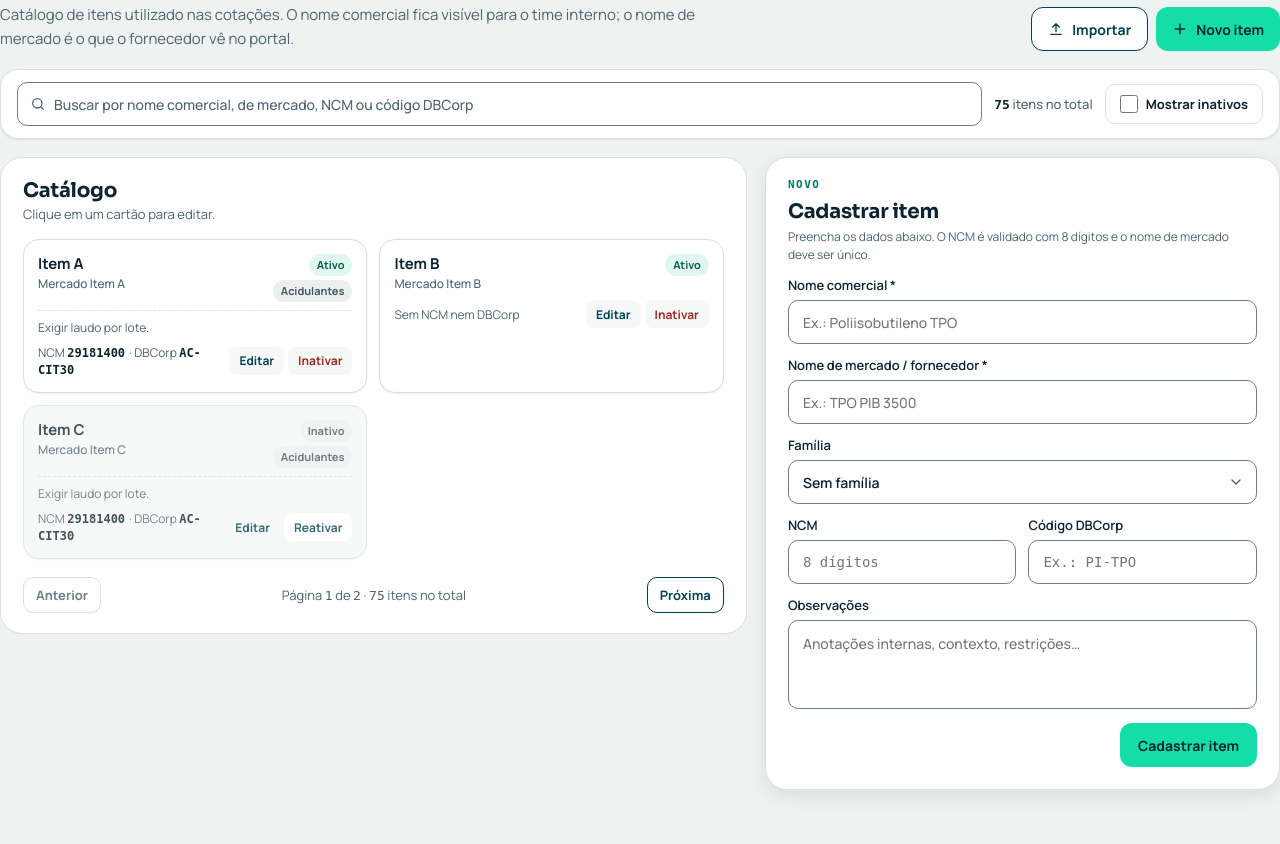
Test: Itens (visual, F10) › formulario: eyebrow "Novo"/"Editando" antes do h2, dica, campos de hoje, NCM e Codigo DBCorp em .itens-form__row; cartao em edicao marcado
Expected: the text "Item A" is shown, x1=38 y1=252 x2=84 y2=274
Expected: the text with class "eyebrow" reads "Novo", x1=788 y1=178 x2=820 y2=191
What coordinates should you click on to do the following:
click the button with aria-label "Editar item Item A"
I would click on:
 (195, 316)
Its box is x1=23 y1=238 x2=367 y2=393.
(page scrolled)
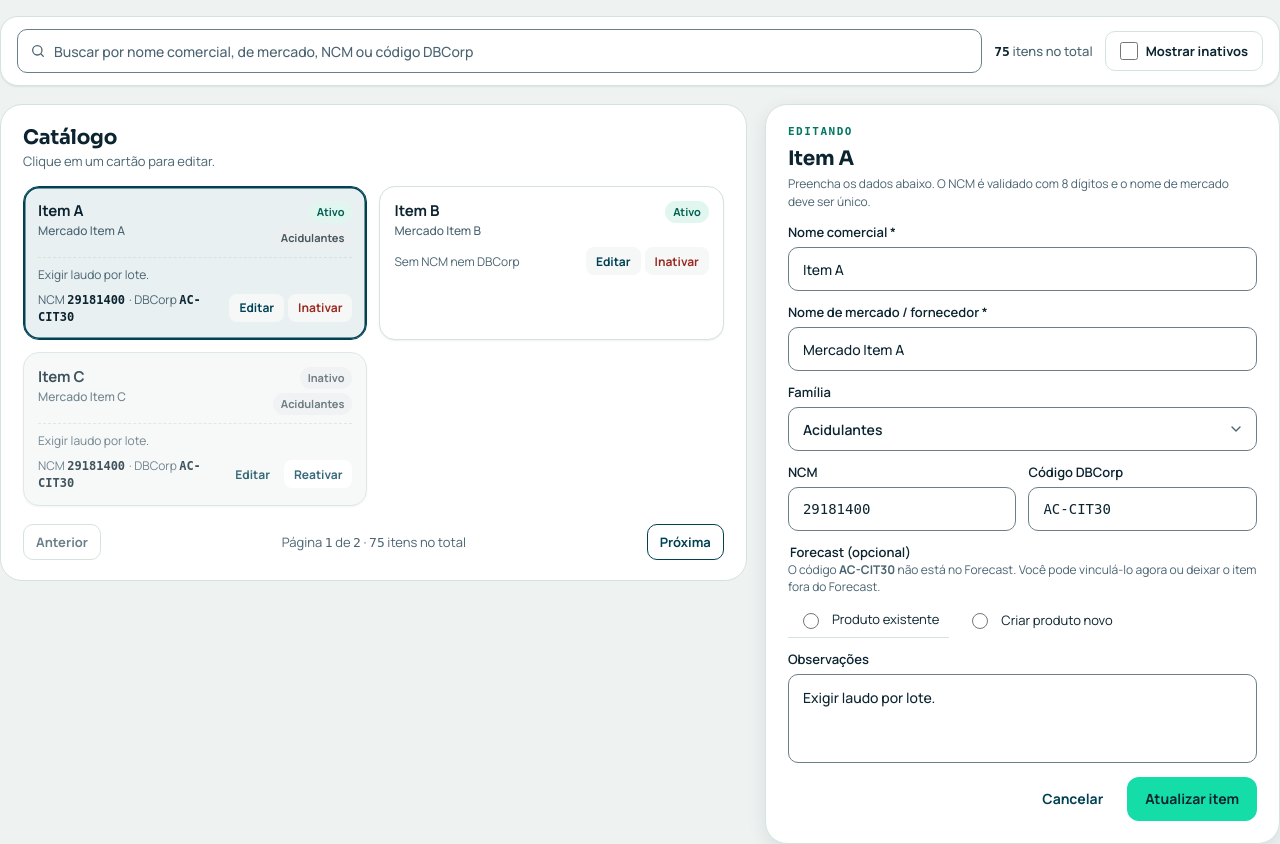
Expected: the text with class "eyebrow" reads "Editando", x1=788 y1=125 x2=853 y2=138
Expected: the heading "Item A" is shown, x1=788 y1=146 x2=854 y2=171
Expected: the button "Cancelar" is shown, x1=1026 y1=777 x2=1119 y2=821
